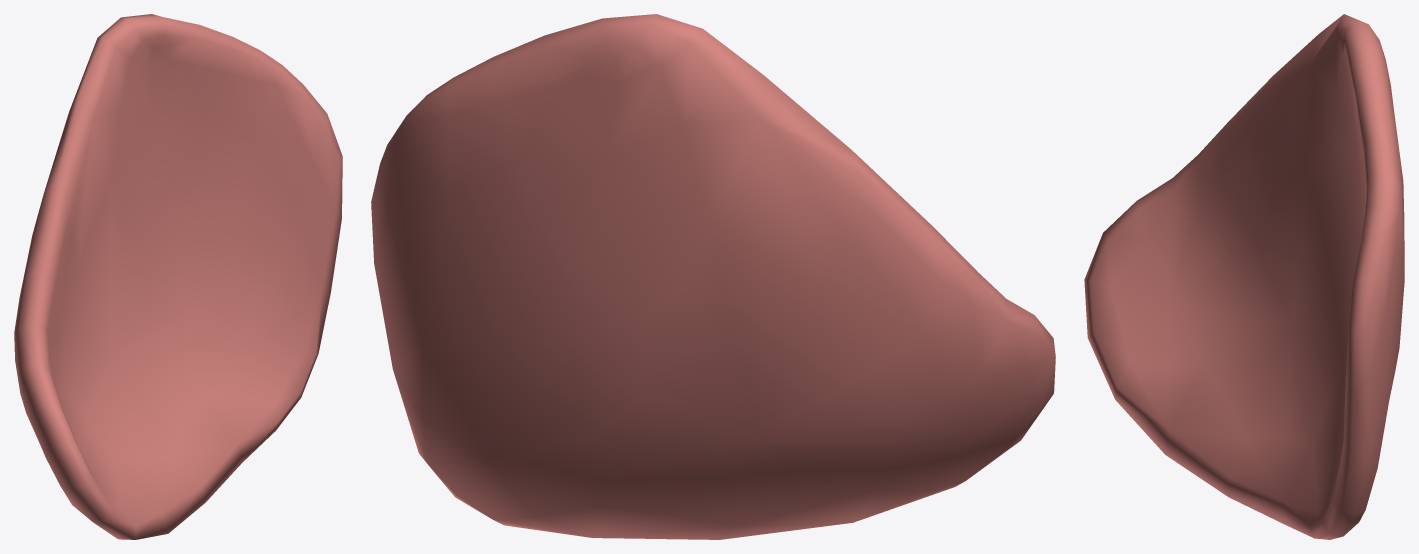
The picture shows the model from 3 angles, left to right: view 1: azimuth 30°, elevation 25°; view 2: azimuth 150°, elevation 25°; view 3: azimuth 270°, elevation 25°; orthographic projection. The views are drawn at different scales.
Visible parts, largest first — view 1: ZA_5b2f36ba60c713cb; view 2: ZA_5b2f36ba60c713cb; view 3: ZA_5b2f36ba60c713cb.
Part boxes in pixels (x1=…): ZA_5b2f36ba60c713cb: x1=14, y1=14, x2=342, y2=539; ZA_5b2f36ba60c713cb: x1=371, y1=14, x2=1055, y2=539; ZA_5b2f36ba60c713cb: x1=1084, y1=14, x2=1404, y2=539.
Size of the model in its own units: 0.00652 by 0.00681 by 0.00423.
